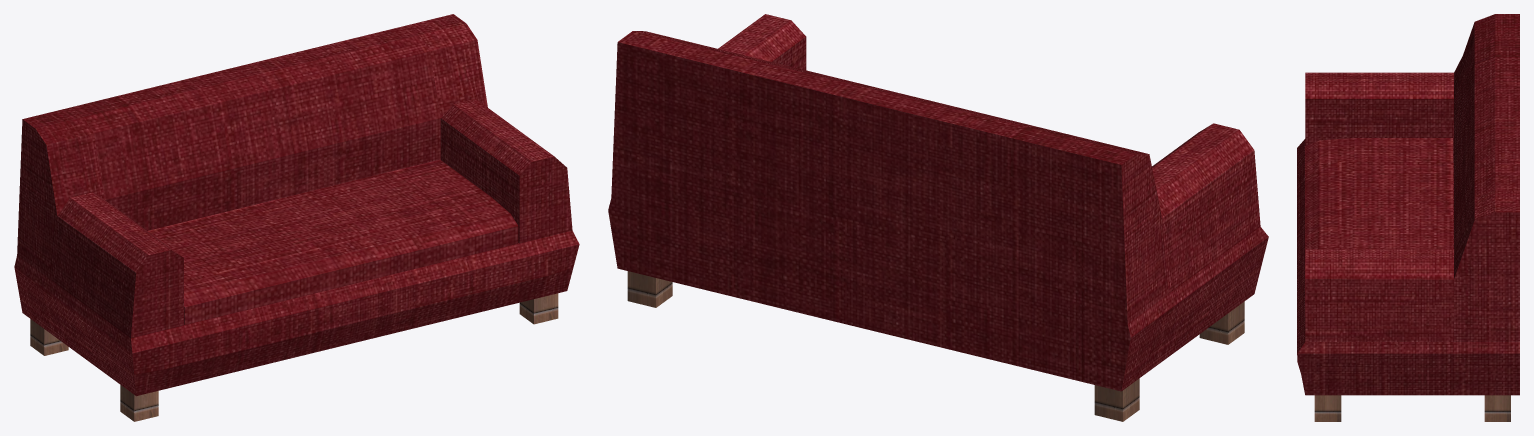
The model's file is Rework_sofaL.fbx.
3 renders of one model, left to right at view 1: azimuth 30°, elevation 25°; view 2: azimuth 150°, elevation 25°; view 3: azimuth 270°, elevation 25°, orthographic. The views are drawn at different scales.
Visible parts, largest first — view 1: Base_sofa, Asiento_sofa, Patas_sofa.001; view 2: Base_sofa, Patas_sofa.001; view 3: Base_sofa, Asiento_sofa, Patas_sofa.001.
Part boxes in pixels (bbox=[...]): Base_sofa: bbox=[14, 14, 579, 396]; Asiento_sofa: bbox=[148, 159, 518, 324]; Patas_sofa.001: bbox=[30, 293, 558, 421]; Base_sofa: bbox=[608, 14, 1268, 391]; Patas_sofa.001: bbox=[627, 271, 1244, 421]; Base_sofa: bbox=[1297, 14, 1519, 395]; Asiento_sofa: bbox=[1305, 138, 1452, 316]; Patas_sofa.001: bbox=[1314, 395, 1510, 421].
Size of the model in its own units: 5.13 by 2.34 by 2.45.
